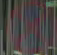No Stopping: (7, 3, 53, 54)
